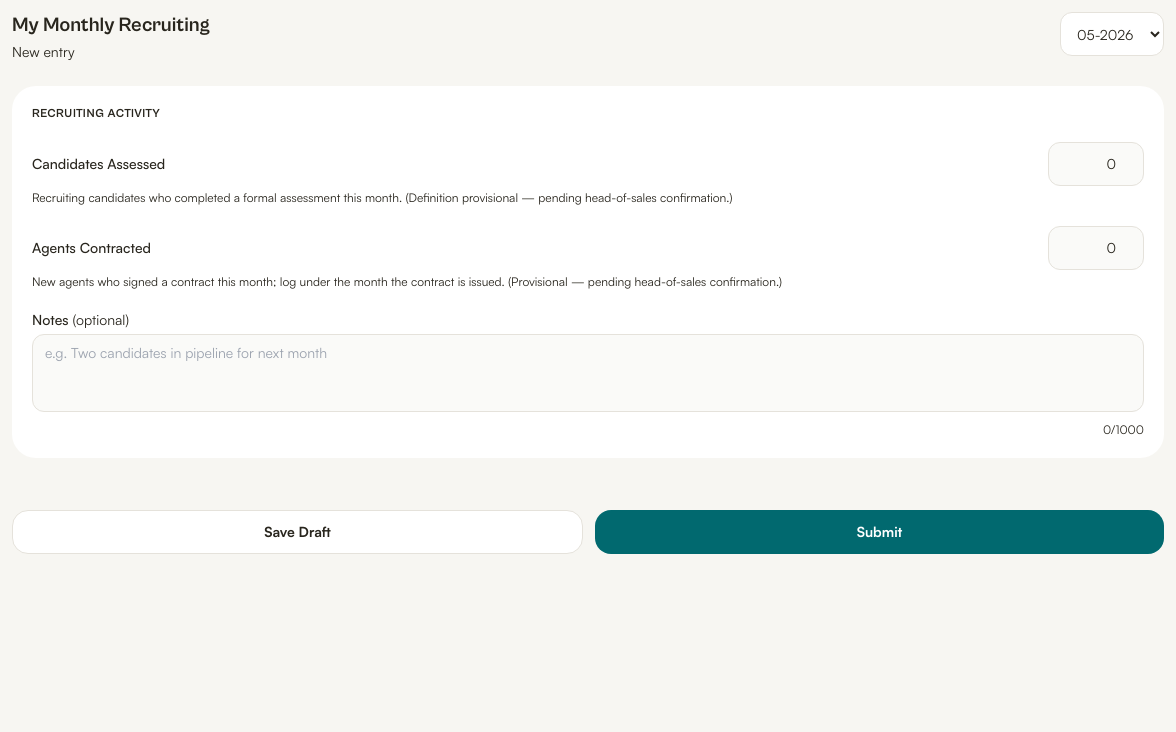
Scenario: Save Draft › shows Saved ✓ feedback after successful save
Click the button "Save Draft". click: point(298, 532)
box: 12,510 -> 583,554
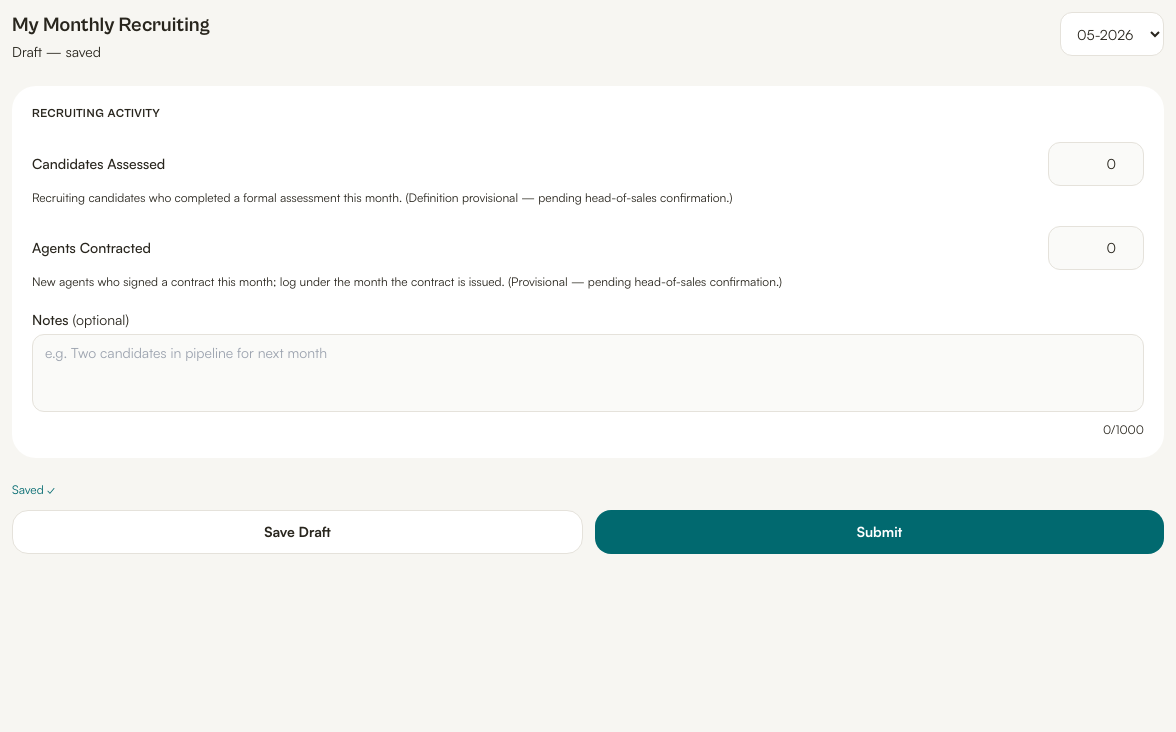
Expected: the text "Saved ✓" is shown, 12,482 -> 56,497
